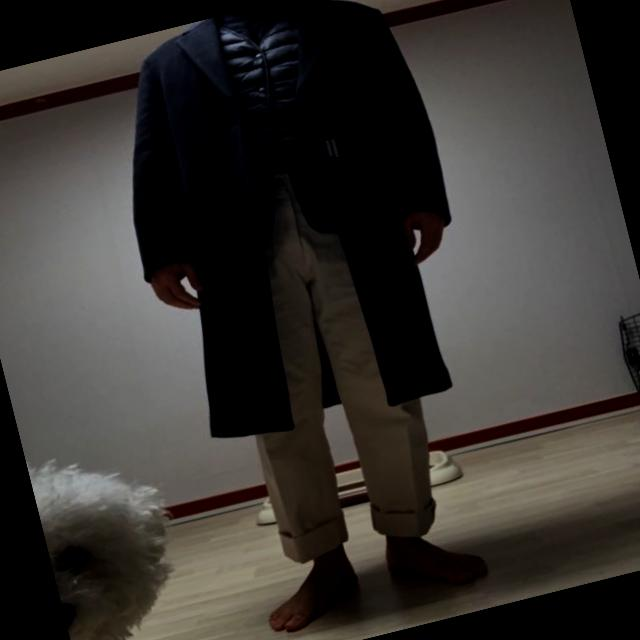coat: (85, 0, 494, 457)
cottonpants: (188, 144, 454, 571)
padding: (200, 0, 347, 251)
